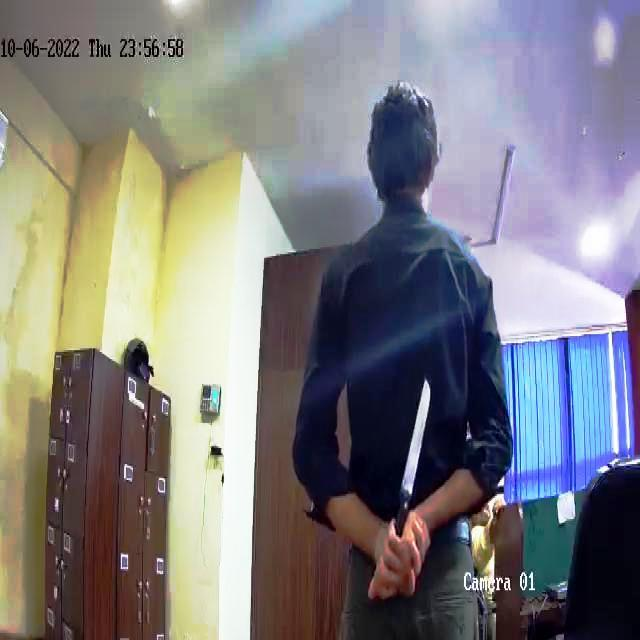Knife: (396, 362, 443, 543)
